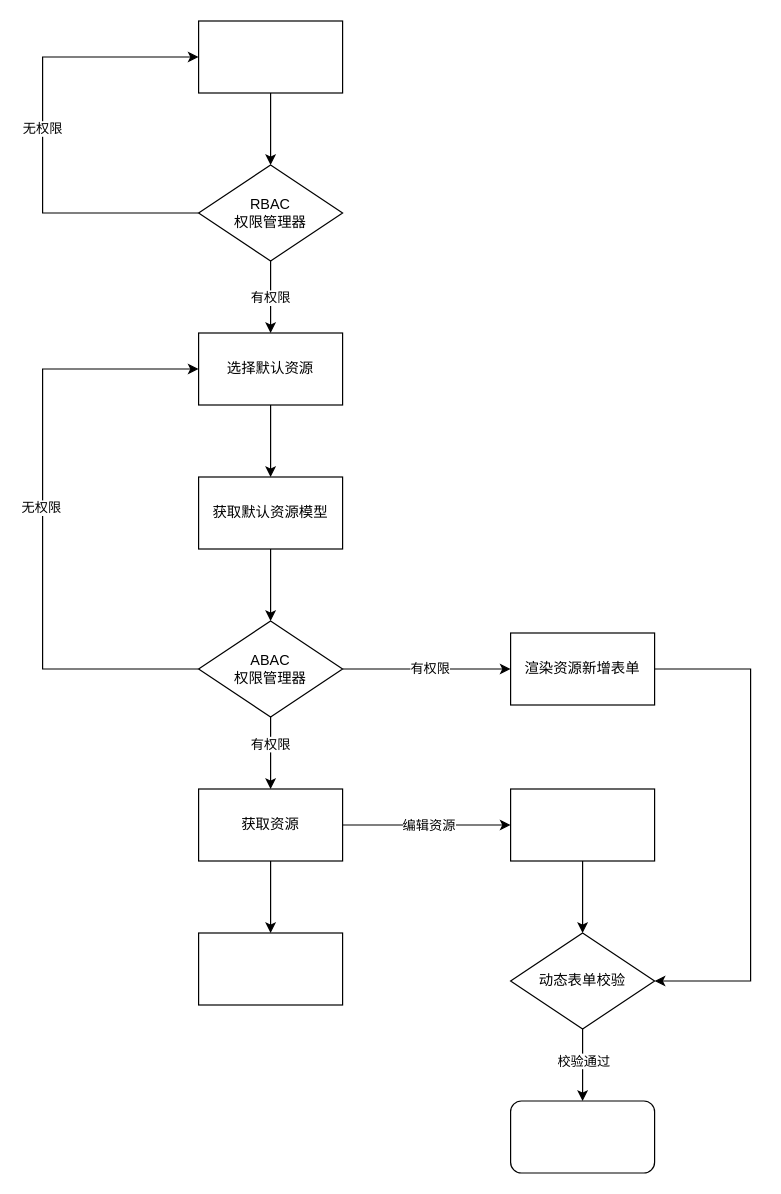
This 781x1194 diagram has some shape labels left out. Each missing label, with the centre of its shape:
CMDB主页: (270,56)
基于资源模型 展示资源: (270,968)
服务端: (582,1136)
渲染 资源编辑表单: (582,824)
